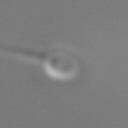normal: (1, 43, 46, 77)
